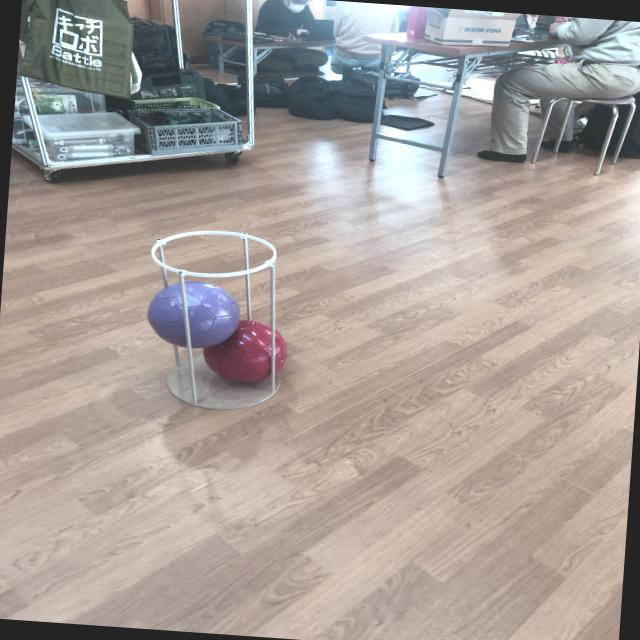purple_ball: (142, 279, 240, 352)
red_ball: (198, 320, 290, 390)
